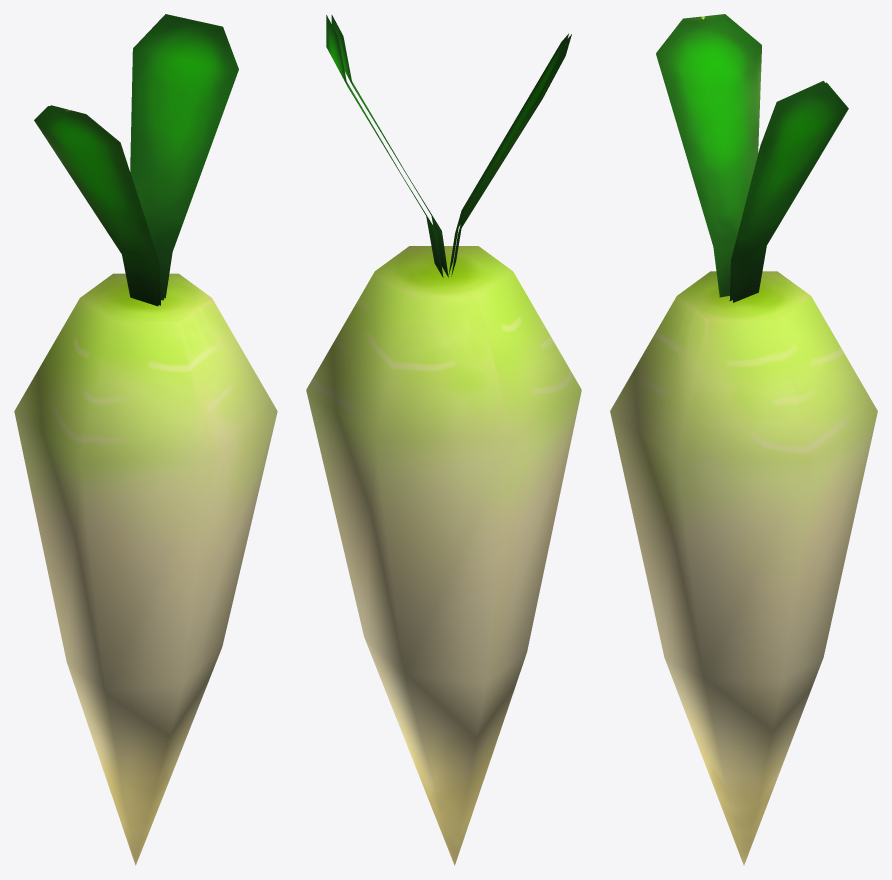
The model's file is white radish.fbx.
3 renders of one model, left to right at view 1: azimuth 30°, elevation 25°; view 2: azimuth 150°, elevation 25°; view 3: azimuth 270°, elevation 25°, orthographic. The views are drawn at different scales.
Parts seen in each view (by area): view 1: white radish; view 2: white radish; view 3: white radish.
Boxes of the visible parts, x1,y1,x2,y2 form: white radish: (14, 14, 277, 865); white radish: (306, 14, 581, 865); white radish: (610, 14, 877, 865).
Bounding box in the file's own units: 0.9206 × 3.38 × 1.
